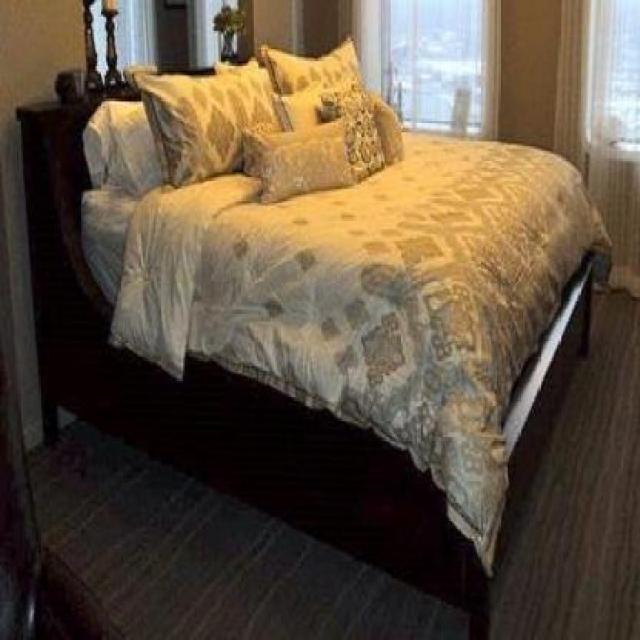Bed: (8, 31, 621, 638)
